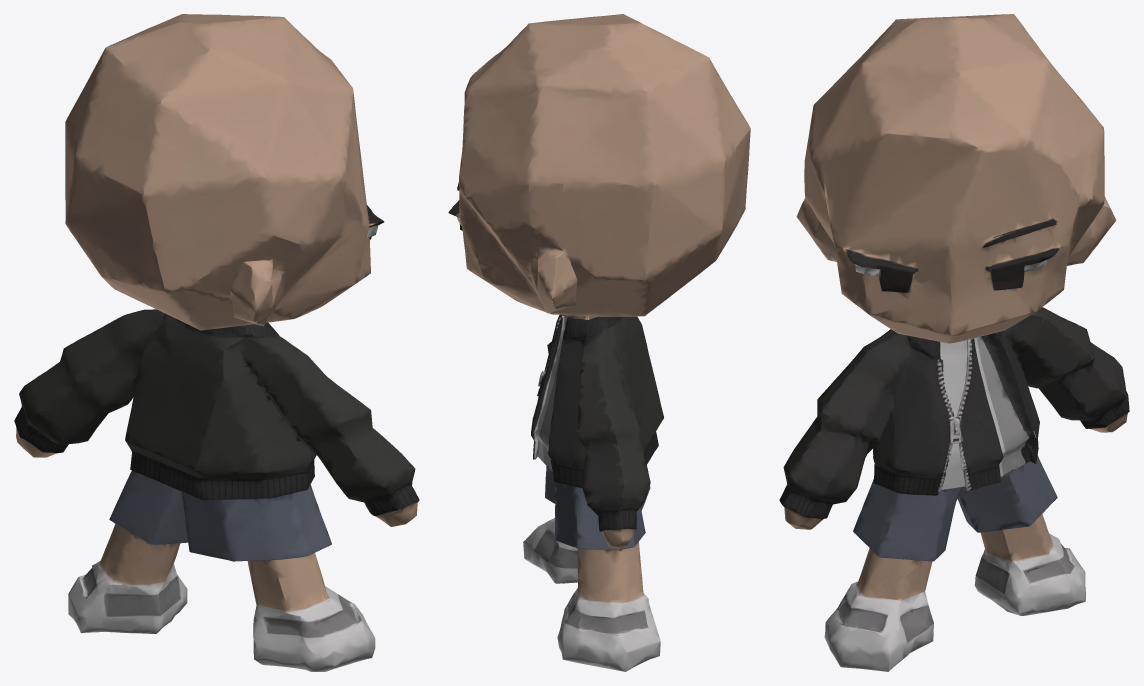
File: dressed.glb
The picture shows the model from 3 angles, left to right: view 1: azimuth 30°, elevation 25°; view 2: azimuth 150°, elevation 25°; view 3: azimuth 270°, elevation 25°; orthographic projection. The views are drawn at different scales.
Visible parts, largest first — view 1: tripo_node_6360932d-14a3-4889-8f2f-852428f53070; view 2: tripo_node_6360932d-14a3-4889-8f2f-852428f53070; view 3: tripo_node_6360932d-14a3-4889-8f2f-852428f53070.
Boxes of the visible parts, left/top/right/bottom form: tripo_node_6360932d-14a3-4889-8f2f-852428f53070: left=14, top=14, right=419, bottom=671; tripo_node_6360932d-14a3-4889-8f2f-852428f53070: left=448, top=14, right=750, bottom=671; tripo_node_6360932d-14a3-4889-8f2f-852428f53070: left=779, top=14, right=1129, bottom=671.
Bounding box in the file's own units: 0.4631 × 1 × 0.5298.
Materials: 1 (1 with a texture image).
